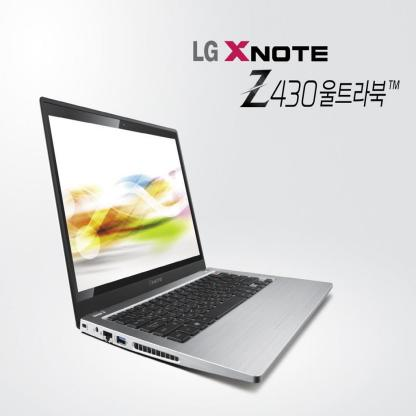board: (40, 100, 332, 382)
